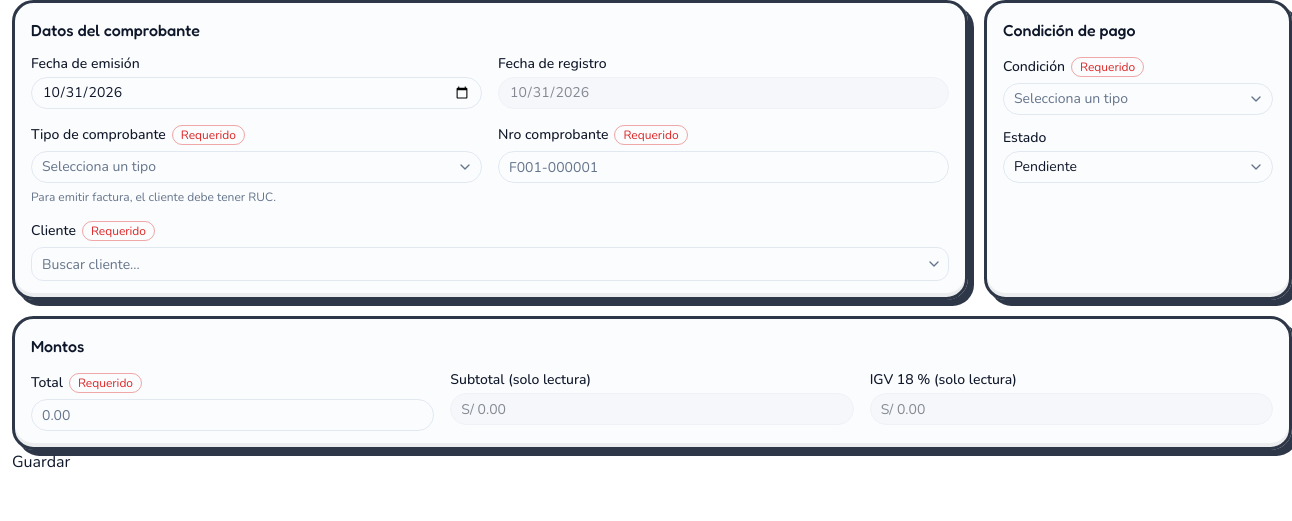
Scenario: VoucherForm — SPEC 44: sugerencia de numeración › recalcula la sugerencia al cambiar de tipo
Click the dropdown with placeholder "Buscar cliente...".
click(476, 264)  # box [32,248,920,280]
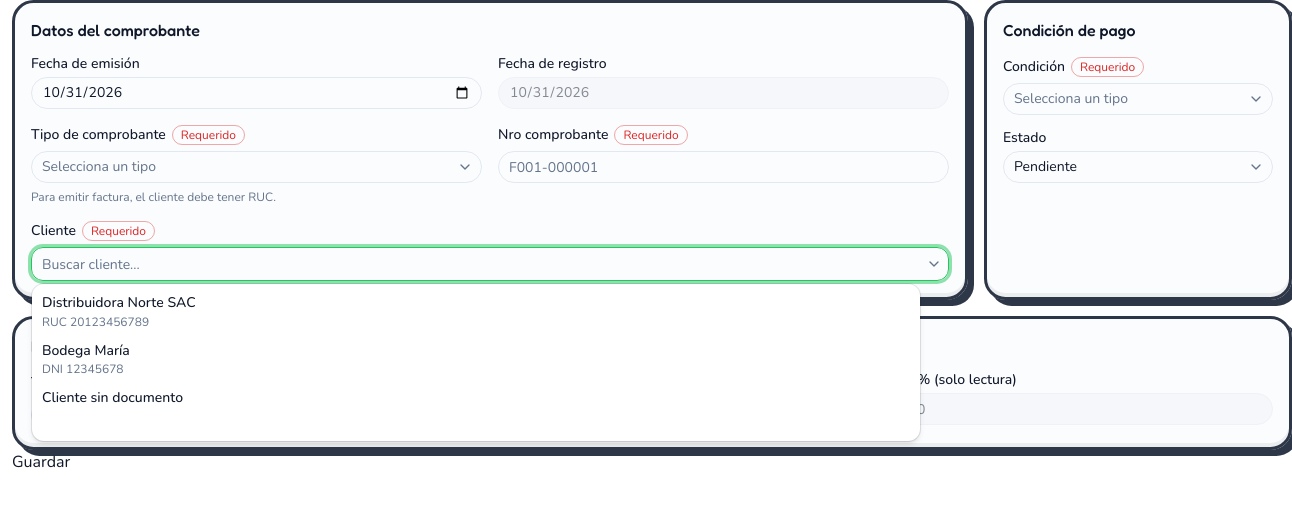
Click the text "Distribuidora Norte SAC".
click(119, 302)  # box [42,293,196,312]
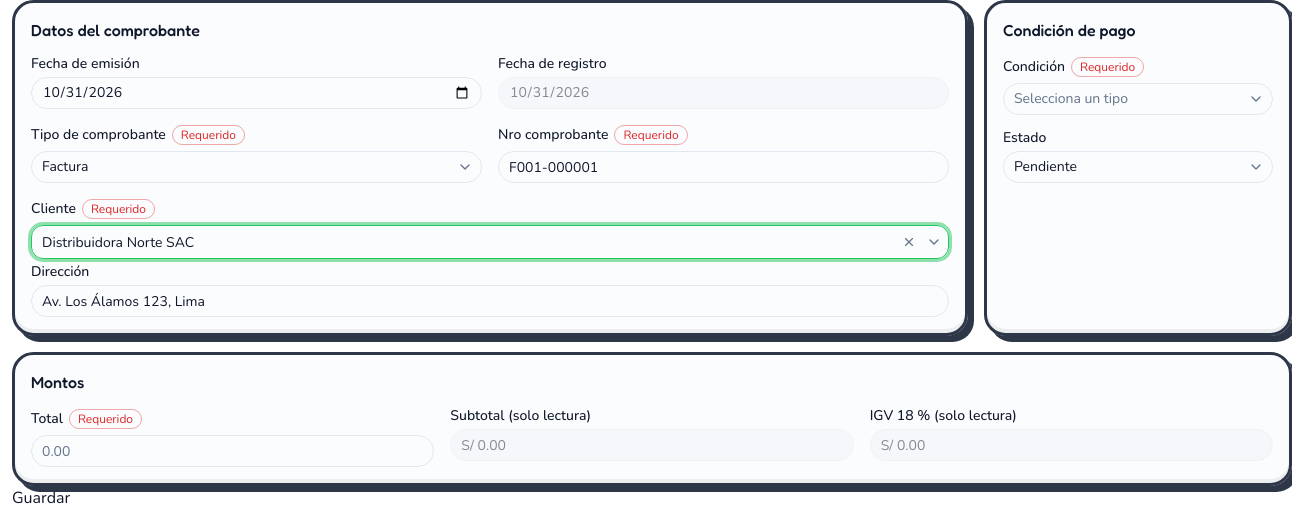
expect the field showing "F001-000001" is shown: met, box [498,151,949,183]
Click the dropdown named "Tipo de comprobante".
click(65, 166)  # box [31,151,482,183]
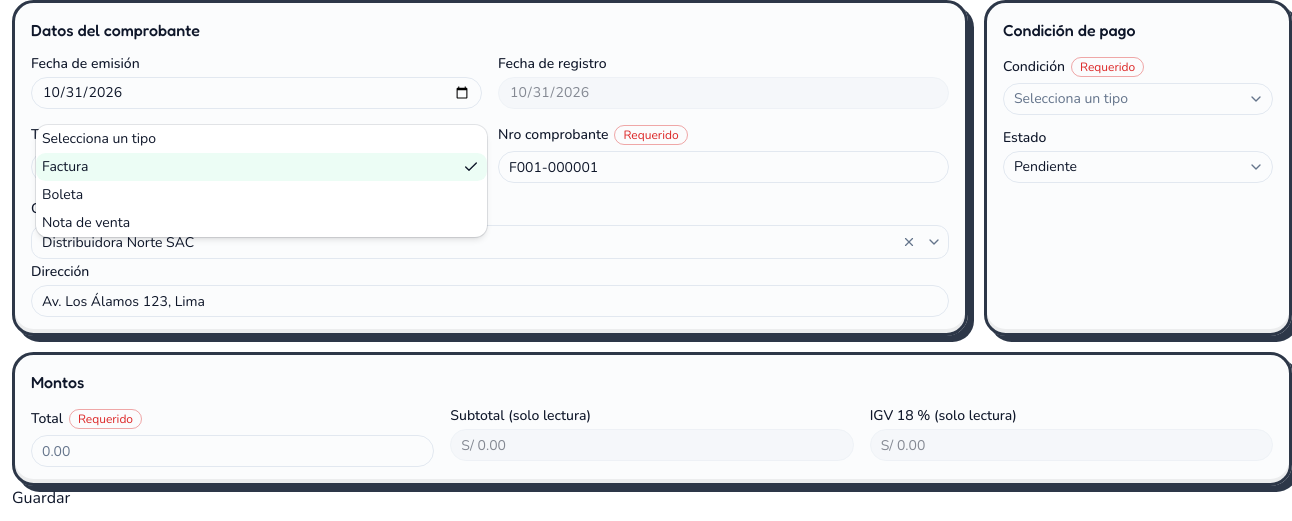
Click the option "Boleta".
click(63, 194)  # box [42,185,83,204]
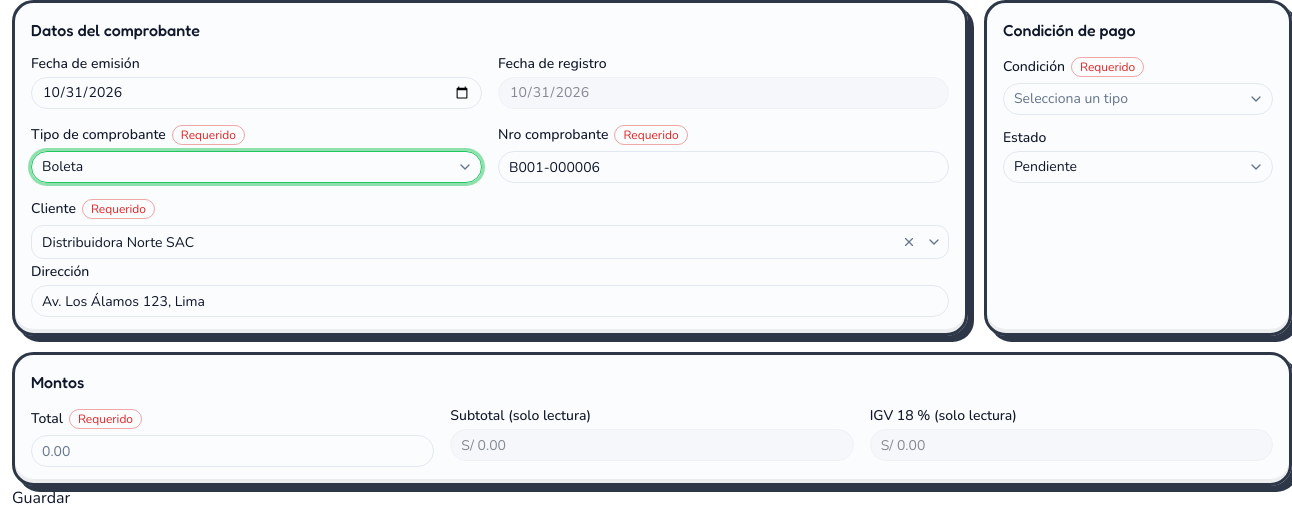
expect the field showing "B001-000006" is shown: met, box [498,151,949,183]
